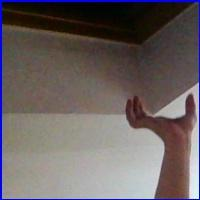space: (120, 87, 199, 143)
